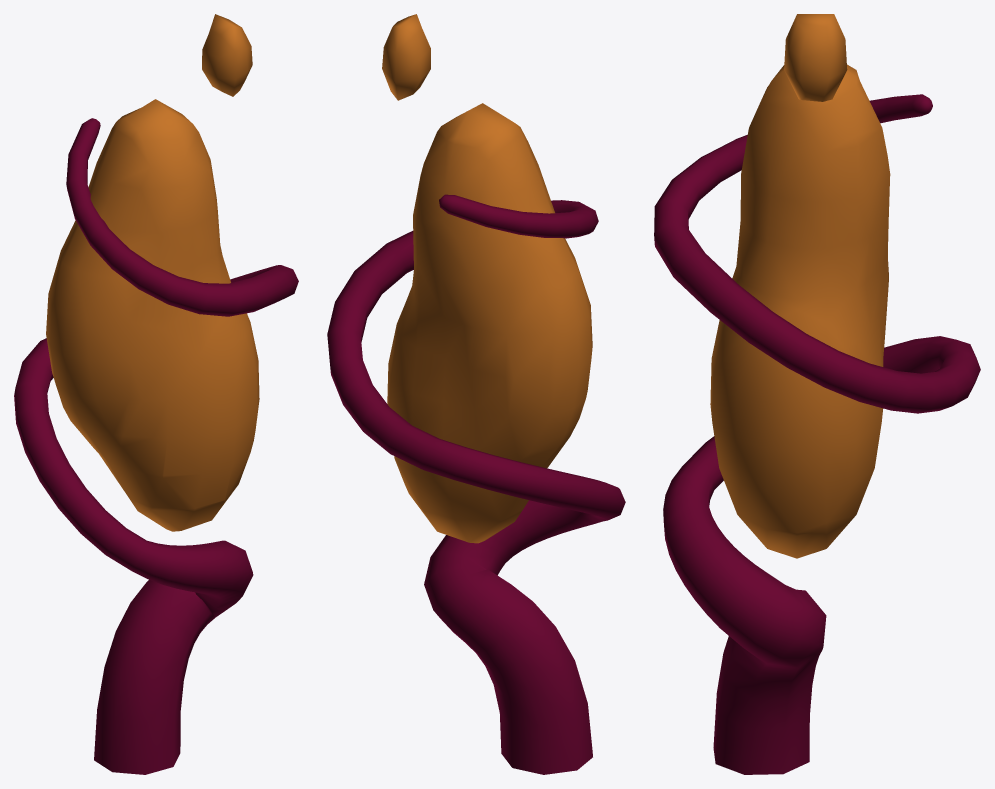
The model's file is usk_Tree_Lava-9gRfmVKx9W.glb.
3 renders of one model, left to right at view 1: azimuth 30°, elevation 25°; view 2: azimuth 150°, elevation 25°; view 3: azimuth 270°, elevation 25°, orthographic. The views are drawn at different scales.
Visible parts, largest first — view 1: Tree_Lava_1; view 2: Tree_Lava_1; view 3: Tree_Lava_1.
Boxes of the visible parts, bbox=[...] form: Tree_Lava_1: bbox=[14, 14, 298, 774]; Tree_Lava_1: bbox=[327, 14, 625, 774]; Tree_Lava_1: bbox=[654, 14, 980, 774].
Size of the model in its own units: 1.2 by 3.24 by 1.2.
1 material, 1 textured.
